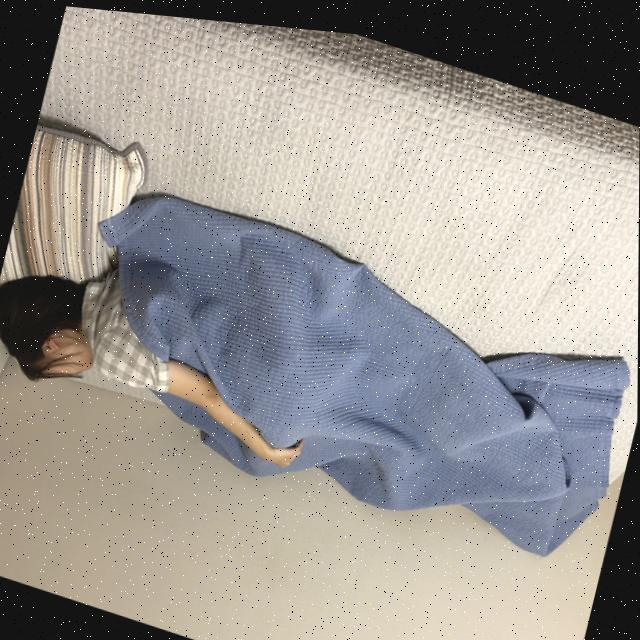sleeping-person: (0, 134, 639, 607)
